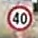limite 40: (6, 3, 33, 31)
